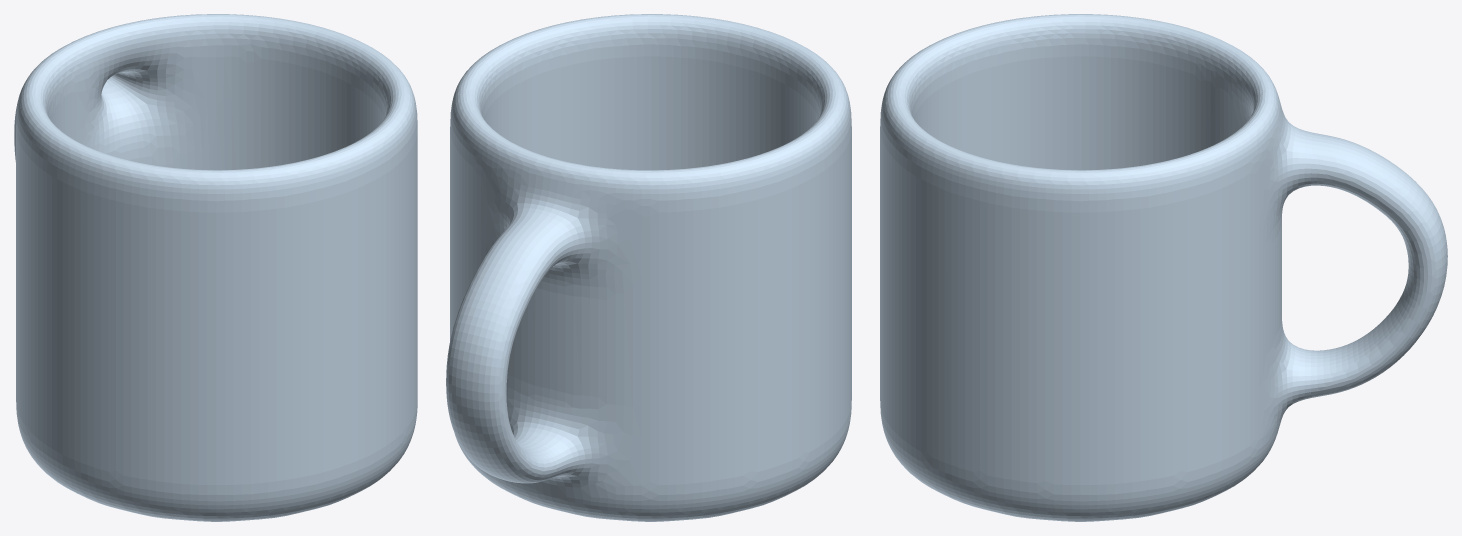
Rendered from muk2 1.obj.
3 views of the same model, side by side, from view 1: azimuth 30°, elevation 25°; view 2: azimuth 150°, elevation 25°; view 3: azimuth 270°, elevation 25° (orthographic).
Parts seen in each view (by area): view 1: Цилиндр; view 2: Цилиндр; view 3: Цилиндр.
Boxes of the visible parts, x1,y1,x2,y2 form: Цилиндр: (14, 14, 417, 521); Цилиндр: (446, 14, 851, 521); Цилиндр: (880, 14, 1447, 521).
Bounding box in the file's own units: 1.96 × 1.98 × 2.77.
